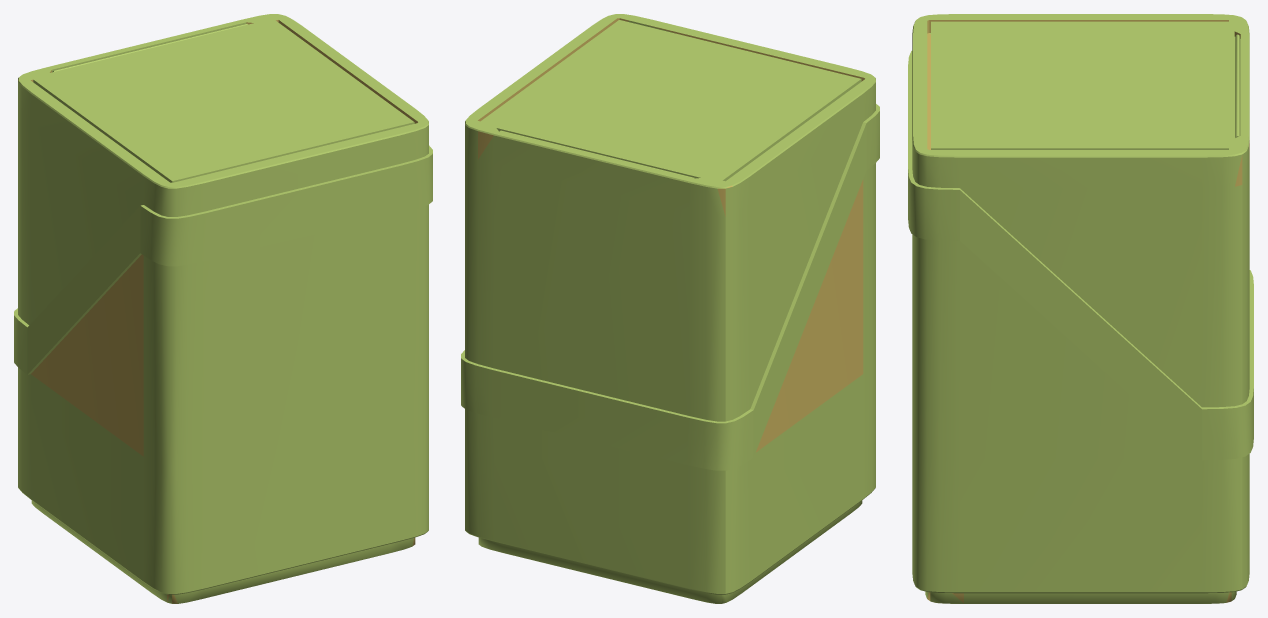
The model's file is trash.fbx.
The picture shows the model from 3 angles, left to right: view 1: azimuth 30°, elevation 25°; view 2: azimuth 150°, elevation 25°; view 3: azimuth 270°, elevation 25°; orthographic projection. The views are drawn at different scales.
Parts seen in each view (by area): view 1: 000-0-0; view 2: 000-0-0; view 3: 000-0-0.
Part boxes in pixels (x1=…): 000-0-0: x1=14, y1=14, x2=432, y2=603; 000-0-0: x1=461, y1=14, x2=879, y2=603; 000-0-0: x1=908, y1=14, x2=1253, y2=603.
Size of the model in its own units: 83.53 by 121 by 83.53.
